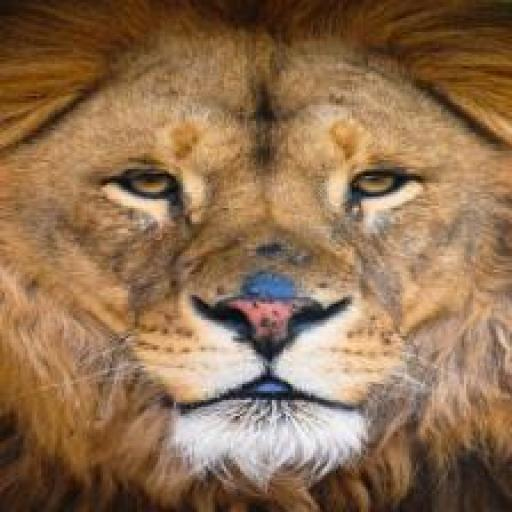lion: (2, 13, 503, 512)
